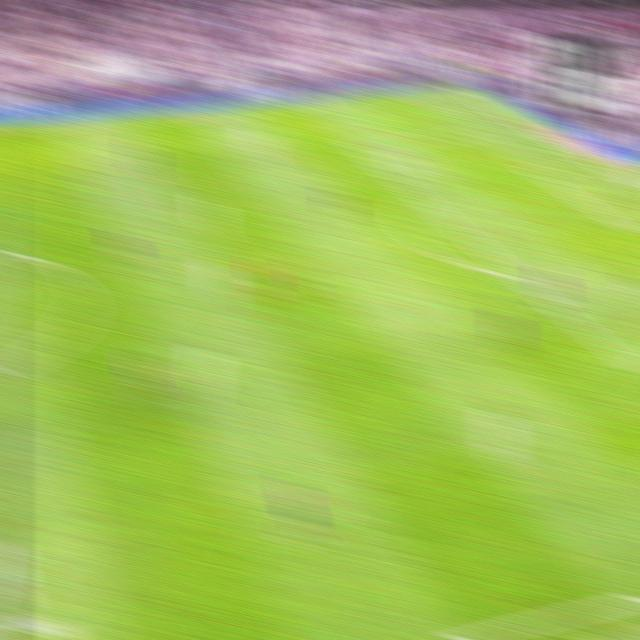bigarea_bottom_inner: (630, 361, 640, 389)
bigarea_top_inner: (350, 139, 372, 156)
bigarea_top_outter: (513, 119, 533, 131)
bottom_arc_area_intersection: (505, 266, 529, 284)
corner: (445, 84, 466, 94)
smallarea_top_inner: (528, 166, 548, 179)
top_arc_area_intersection: (409, 188, 433, 207)
